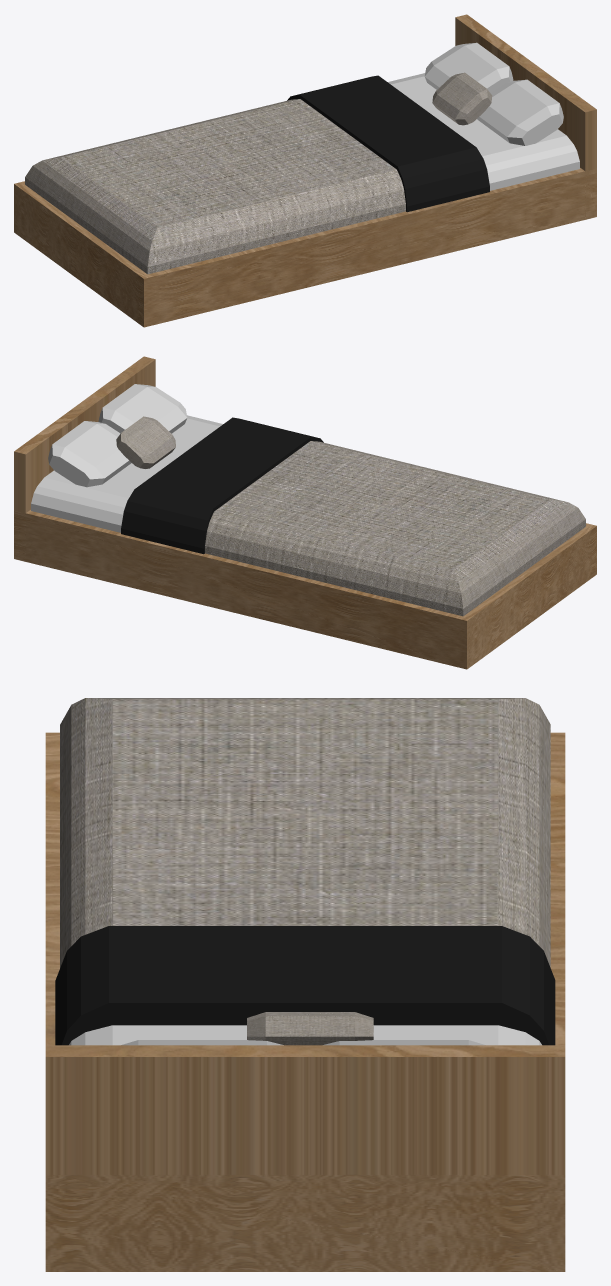
Rendered from Kärpänen_Sänky.fbx.
3 views of the same model, one above another, from view 1: azimuth 30°, elevation 25°; view 2: azimuth 150°, elevation 25°; view 3: azimuth 270°, elevation 25° (orthographic). The views are drawn at different scales.
Visible parts, largest first — view 1: Cube.016, Cube.013, Cube.017, Cube.018, Cube.019; view 2: Cube.016, Cube.013, Cube.018, Cube.017, Cube.019; view 3: Cube.016, Cube.013, Cube.019, Cube.017, Cube.018.
Boxes of the visible parts, x1,y1,x2,y2 form: Cube.016: (25, 73, 579, 274); Cube.013: (14, 14, 596, 327); Cube.017: (477, 79, 563, 145); Cube.018: (424, 42, 513, 92); Cube.019: (432, 72, 492, 125); Cube.016: (31, 415, 585, 616); Cube.013: (14, 356, 596, 669); Cube.018: (48, 421, 131, 487); Cube.017: (98, 384, 187, 433); Cube.019: (116, 416, 175, 468); Cube.016: (55, 698, 555, 1045); Cube.013: (45, 732, 565, 1271); Cube.019: (247, 1012, 373, 1045); Cube.017: (121, 1040, 283, 1045); Cube.018: (323, 1040, 485, 1045).
Size of the model in its own units: 5884 by 1334 by 2923.
4 materials, 2 textured.
